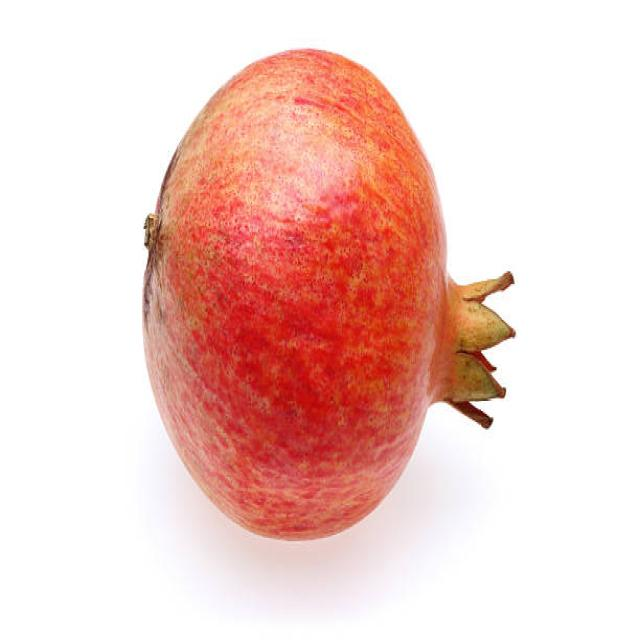Ripe: (137, 44, 516, 544)
